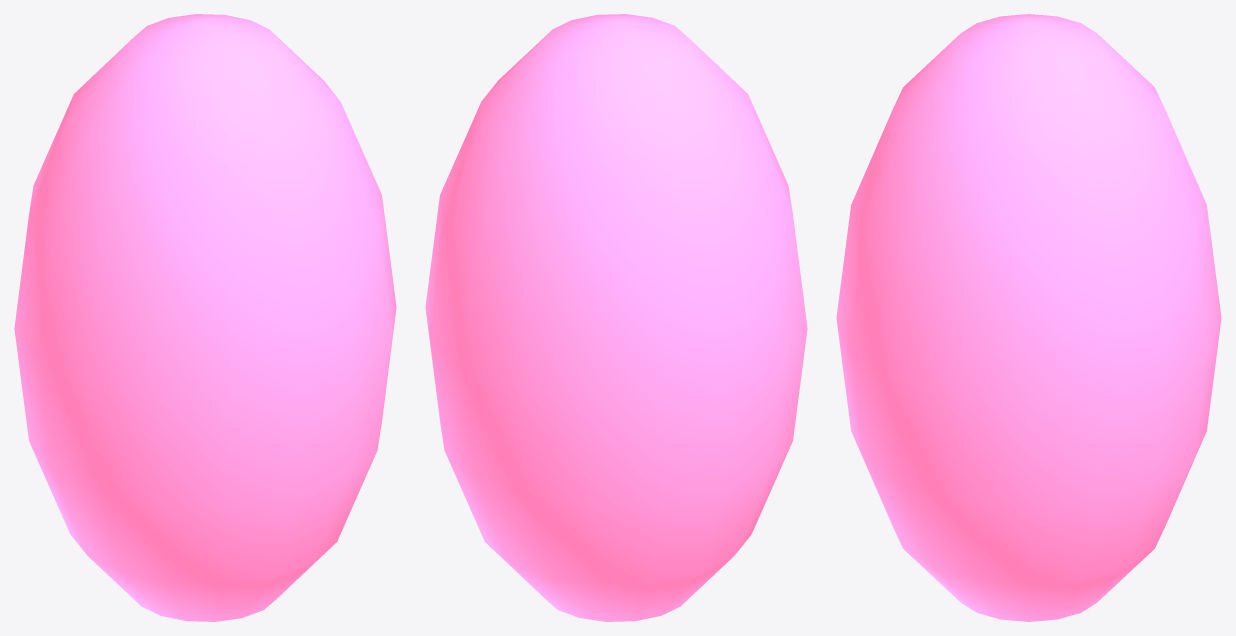
File: enemy_bolt.glb
3 views of the same model, side by side, from view 1: azimuth 30°, elevation 25°; view 2: azimuth 150°, elevation 25°; view 3: azimuth 270°, elevation 25° (orthographic).
Visible parts, largest first — view 1: Projectile core; view 2: Projectile core; view 3: Projectile core.
Boxes of the visible parts, x1,y1,x2,y2 form: Projectile core: [14, 14, 396, 621]; Projectile core: [425, 14, 807, 621]; Projectile core: [836, 14, 1221, 621].
Bounding box in the file's own units: 0.26 × 0.44 × 0.26.
